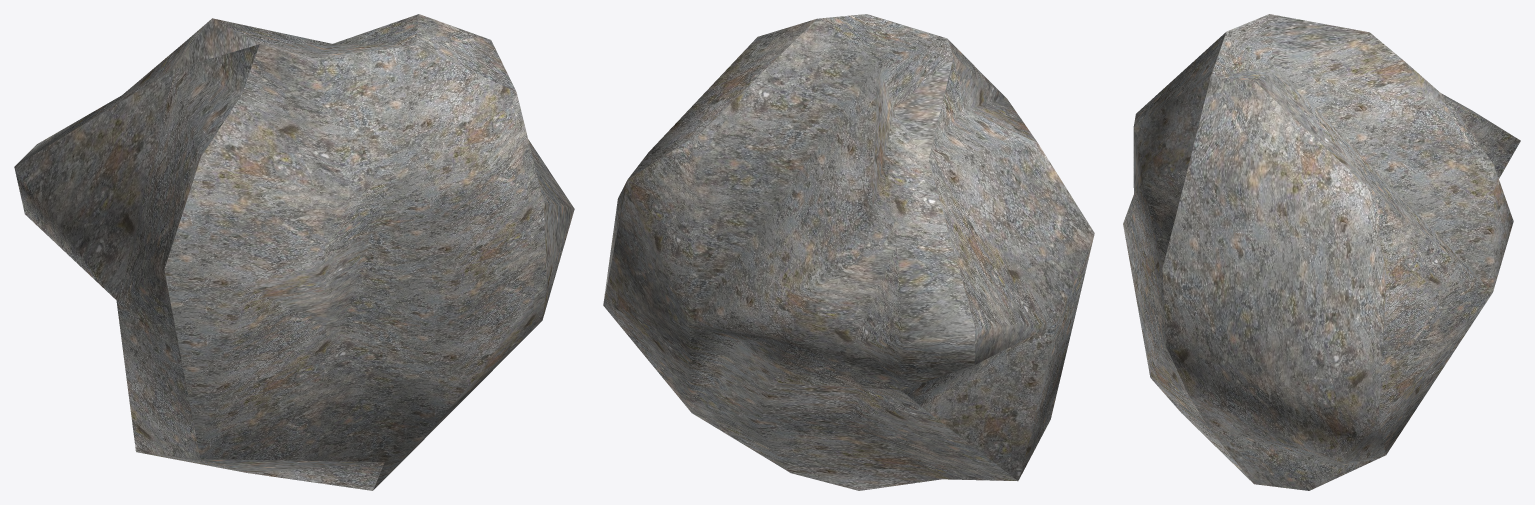
The model's file is rocks_rock1.glb.
3 views of the same model, side by side, from view 1: azimuth 30°, elevation 25°; view 2: azimuth 150°, elevation 25°; view 3: azimuth 270°, elevation 25° (orthographic). The views are drawn at different scales.
Visible parts, largest first — view 1: rock1; view 2: rock1; view 3: rock1.
Boxes of the visible parts, x1=… form: rock1: x1=14, y1=14, x2=574, y2=490; rock1: x1=603, y1=14, x2=1094, y2=490; rock1: x1=1123, y1=14, x2=1520, y2=490.
Bounding box in the file's own units: 3.36 × 3.29 × 2.8.
Materials: 1 (1 with a texture image).
